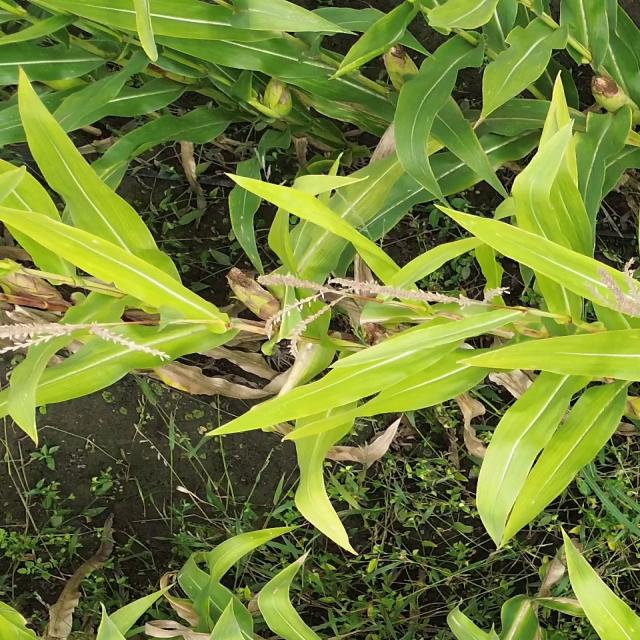gray-leaf-spot: (320, 82, 421, 146)
southern-leaf-blight: (62, 231, 167, 281), (490, 81, 557, 140), (229, 214, 279, 286)
